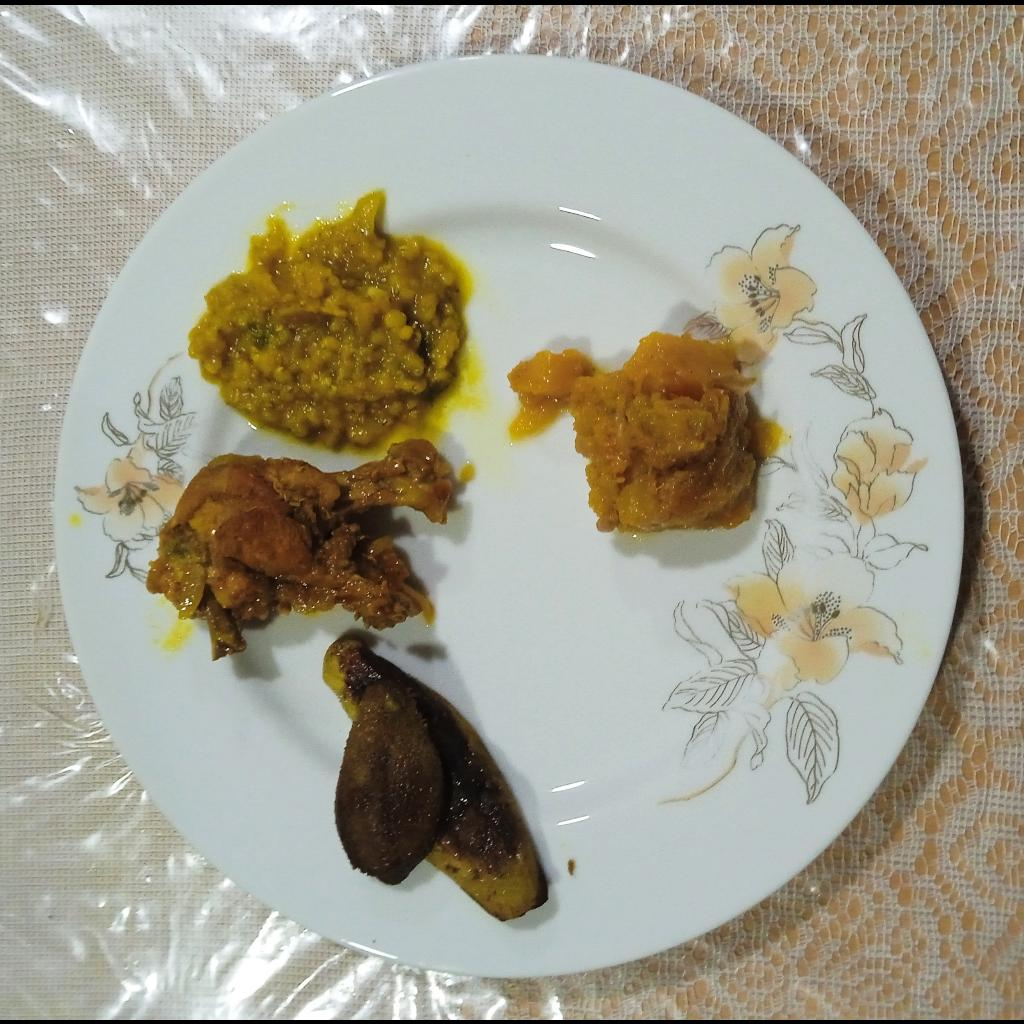chicken: (143, 439, 455, 658)
daal: (184, 184, 465, 448)
potol: (319, 630, 556, 925)
ruti: (505, 332, 775, 535)
